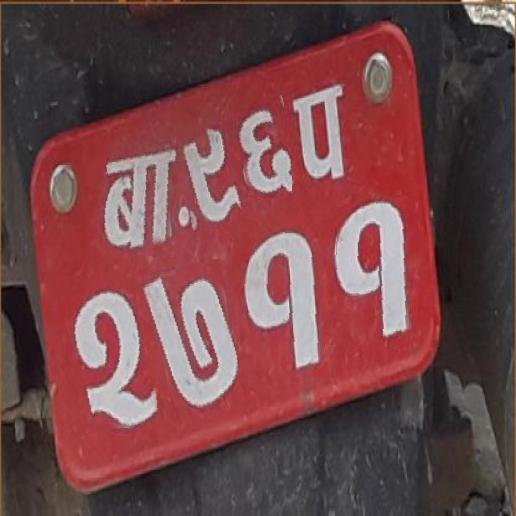1: (240, 221, 327, 377), (331, 192, 416, 349)
2: (60, 274, 155, 432)
6: (235, 96, 301, 210)
7: (146, 262, 245, 421)
9: (180, 124, 244, 230)
ba: (90, 135, 180, 256)
pa: (292, 83, 360, 192)
